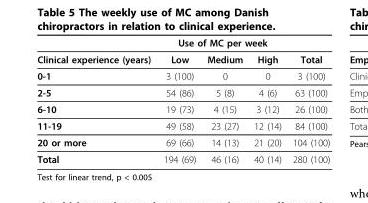table: (36, 36, 329, 164)
table column: (36, 36, 156, 164), (200, 36, 247, 164), (156, 36, 200, 164), (286, 36, 329, 164), (247, 36, 286, 164)
table column header: (36, 36, 329, 67)
table row: (36, 50, 329, 67), (36, 83, 329, 100), (36, 100, 329, 117), (36, 133, 329, 150), (36, 67, 329, 83), (36, 117, 329, 133), (36, 36, 329, 50), (36, 150, 329, 164)
table spanning cell: (36, 36, 156, 67), (156, 36, 286, 50), (286, 36, 329, 67)
